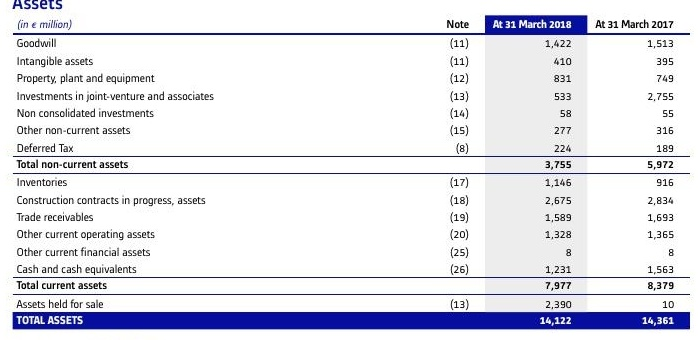table: (0, 0, 698, 340)
